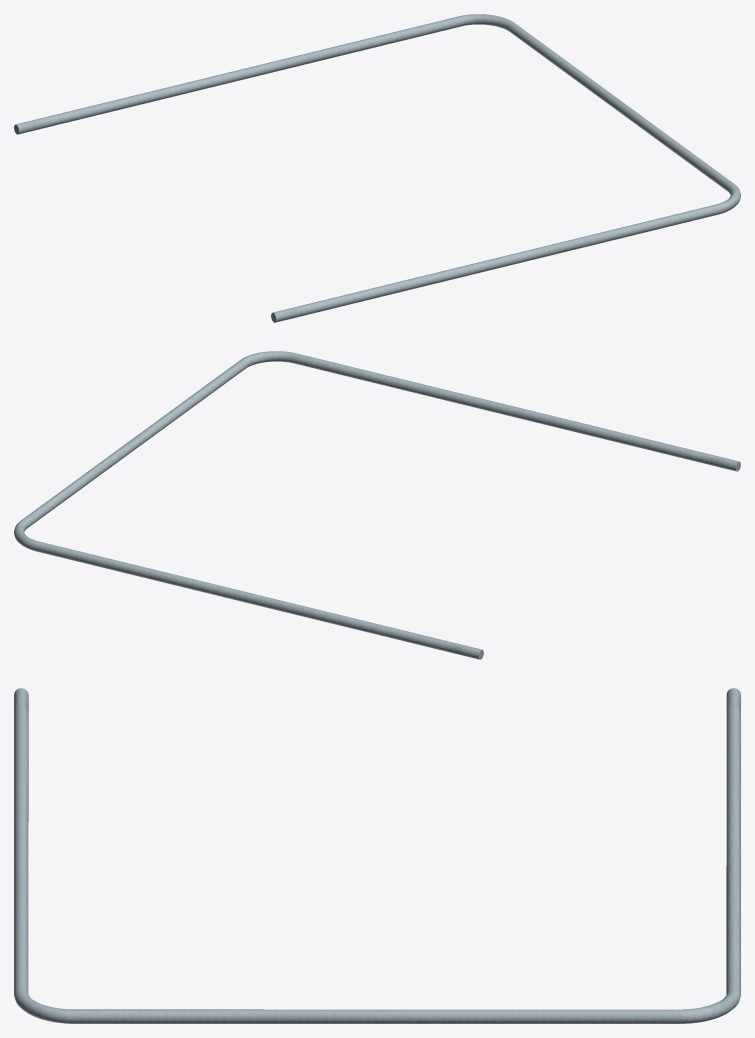
File: 28-rolled-tin-rim-149.2-2.fbx
The picture shows the model from 3 angles, top to bottom: view 1: azimuth 30°, elevation 25°; view 2: azimuth 150°, elevation 25°; view 3: azimuth 270°, elevation 25°; orthographic projection. The views are drawn at different scales.
Parts seen in each view (by area): view 1: rolled-tin-rim-149.2-2; view 2: rolled-tin-rim-149.2-2; view 3: rolled-tin-rim-149.2-2.
Boxes of the visible parts, <box> form: rolled-tin-rim-149.2-2: <box>14,14,740,322</box>; rolled-tin-rim-149.2-2: <box>14,351,740,659</box>; rolled-tin-rim-149.2-2: <box>14,688,740,1023</box>.
Size of the model in its own units: 8530 by 160 by 8059.
Materials: 1 (1 with a texture image).
